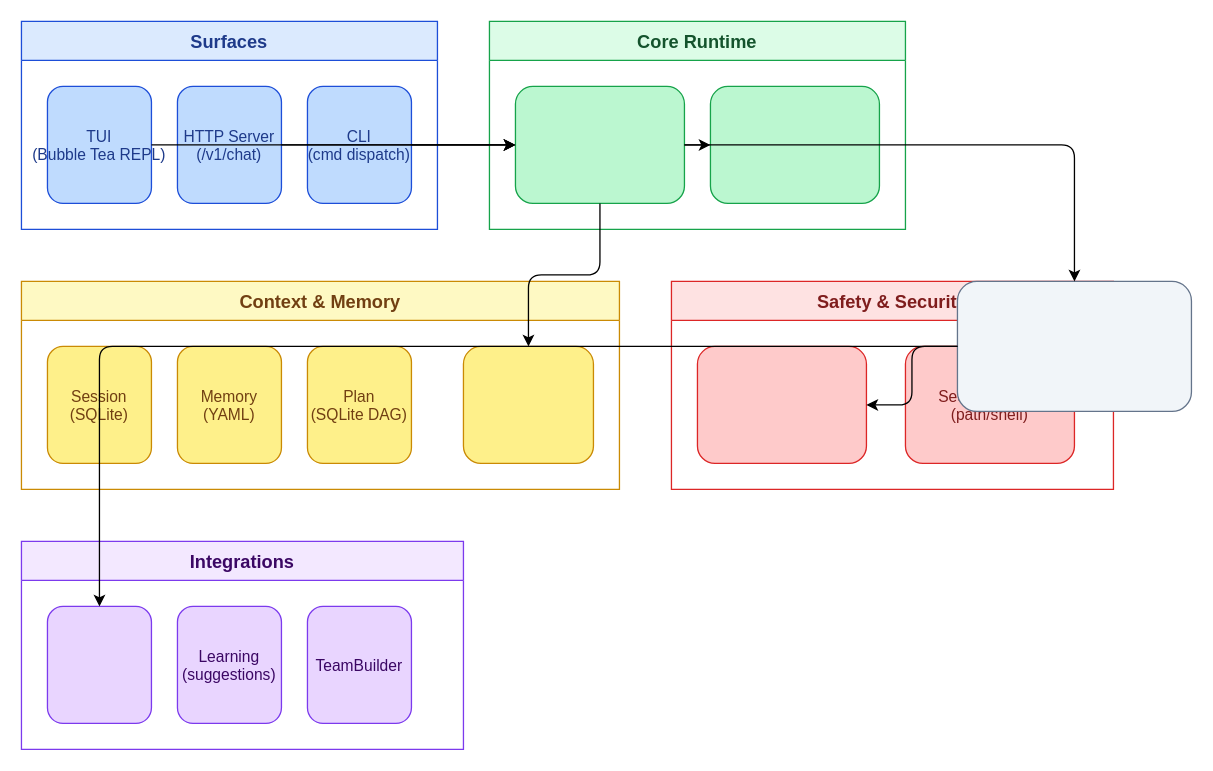
This 1213x771 diagram has some shape labels left out. The shapes that lost their labels are listed below. From the top down, each one's centre as x and y in pixels, then its label:
At (599,144): "Orchestrator (agent lifecycle)".
At (794,144): "Router (T0/T1/T2)".
At (1073,345): "Chronos Library (agent loop + tools)".
At (527,404): "ContextGuard (budget+trim)".
At (781,404): "Guardrail Engine (YAML rules)".
At (98,664): "MCP (stdio / SSE)".
